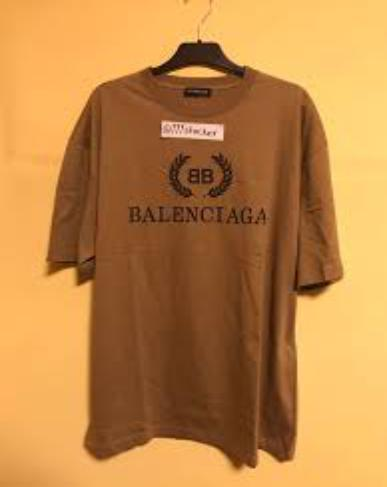BALENCIAGA: (125, 203, 271, 225), (187, 165, 213, 184)
